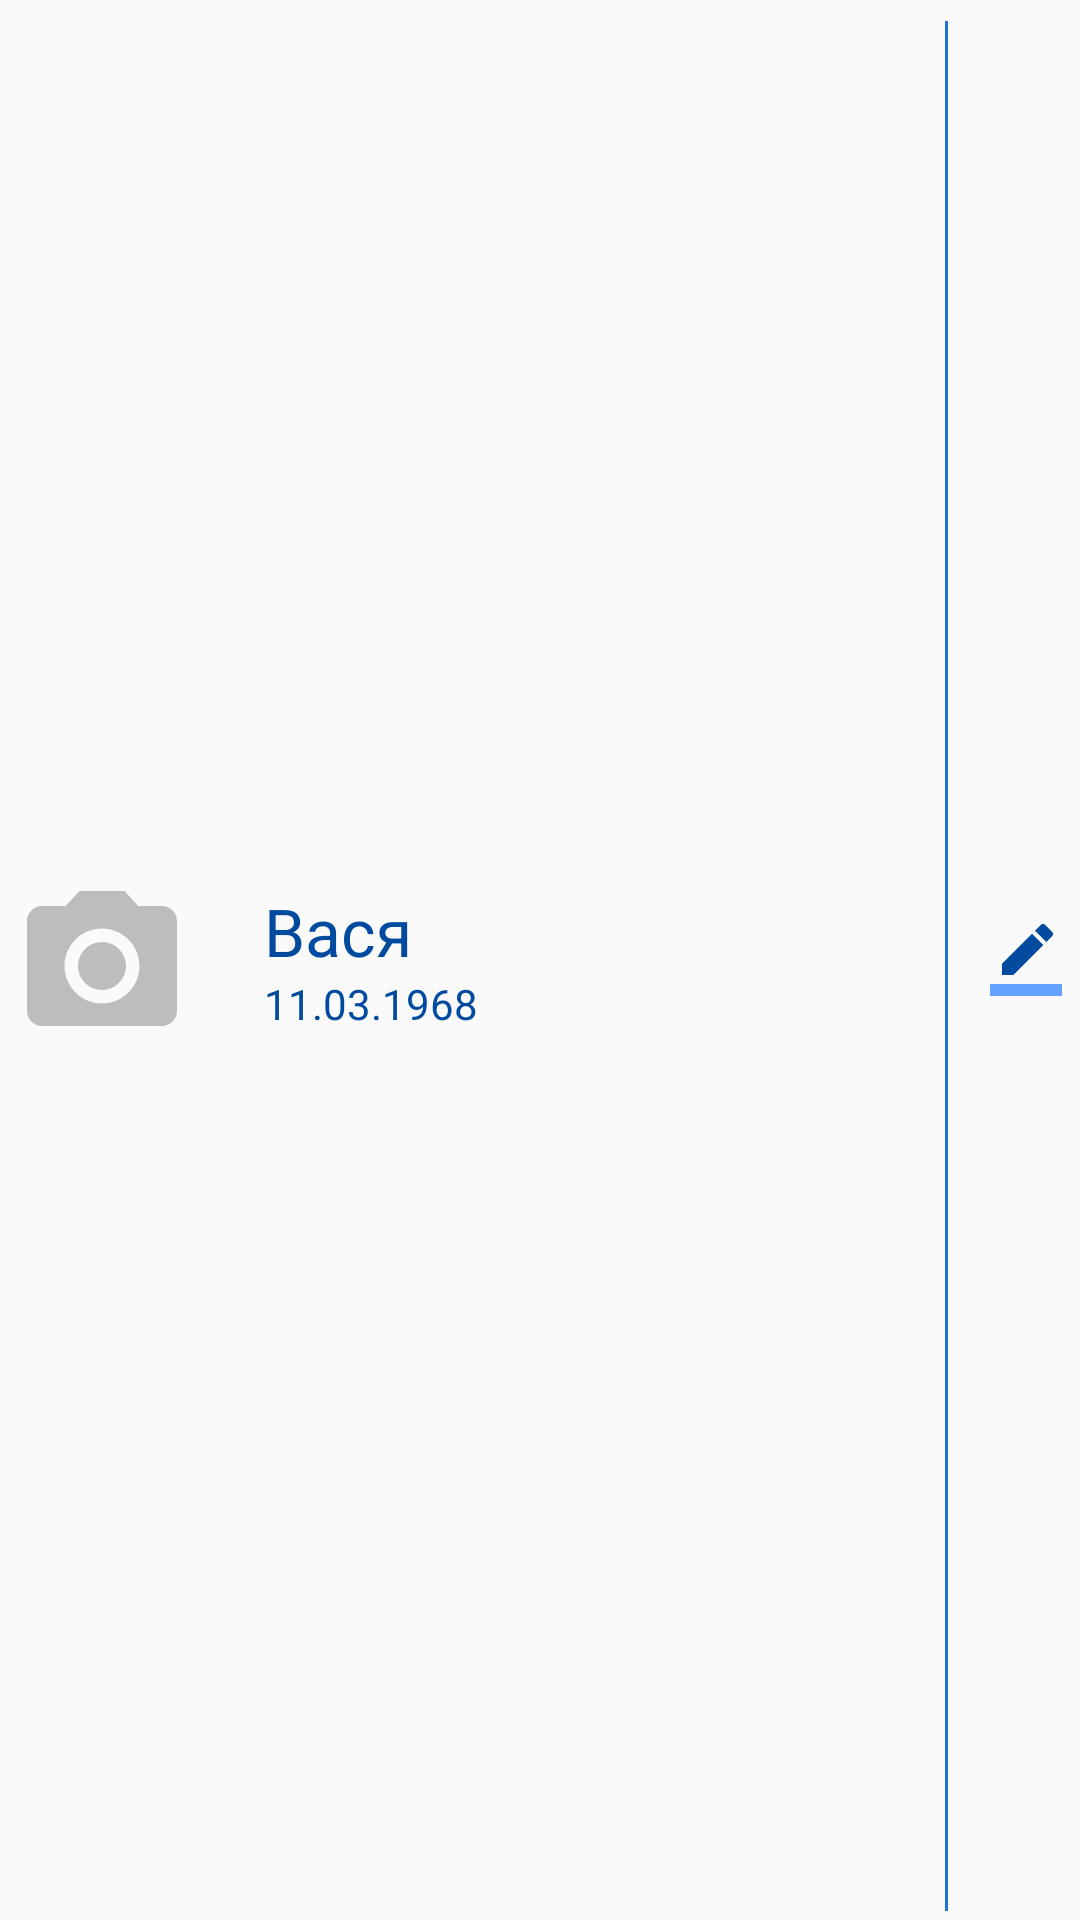

Icons on this 1080w x 1920h Android screen, each with its box as (x1, y1, x2, y2):
camera: (27, 891, 177, 1026)
